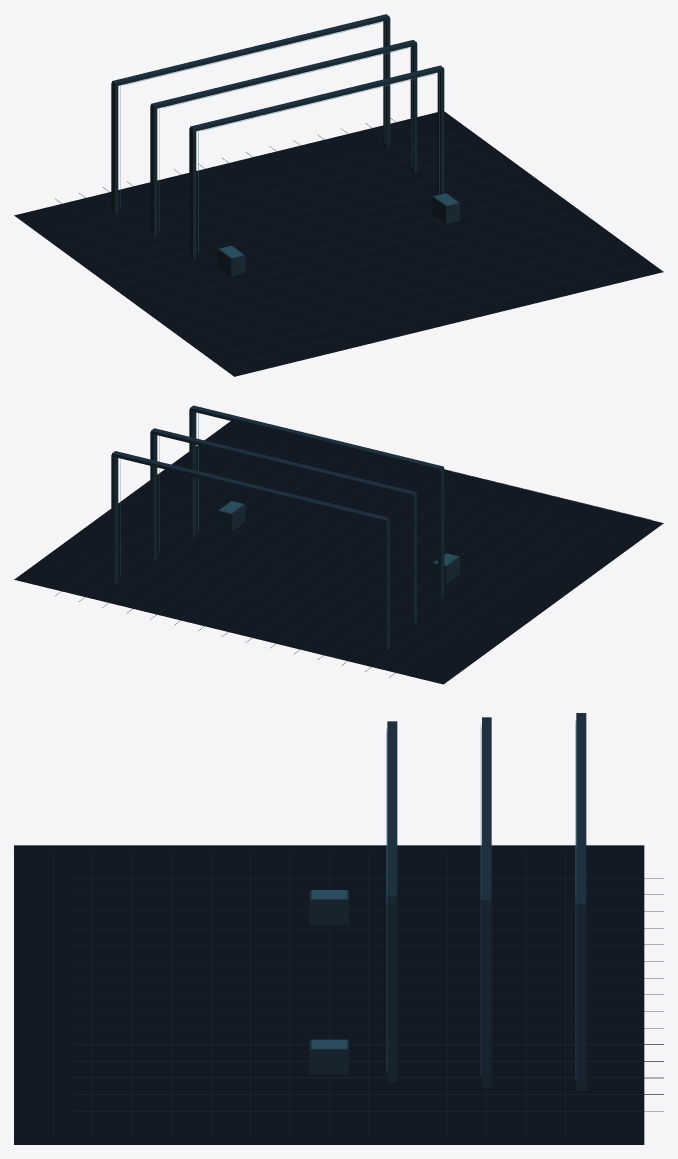
Rendered from 03_research_facility.glb.
3 views of the same model, one above another, from view 1: azimuth 30°, elevation 25°; view 2: azimuth 150°, elevation 25°; view 3: azimuth 270°, elevation 25° (orthographic). The views are drawn at different scales.
Parts seen in each view (by area): view 1: 03_RESEARCH_FACILITY; view 2: 03_RESEARCH_FACILITY; view 3: 03_RESEARCH_FACILITY.
Boxes of the visible parts, x1,y1,x2,y2 form: 03_RESEARCH_FACILITY: (14, 14, 663, 376); 03_RESEARCH_FACILITY: (14, 405, 663, 684); 03_RESEARCH_FACILITY: (14, 713, 663, 1144).
Size of the model in its own units: 18 by 5.26 by 16.5.
